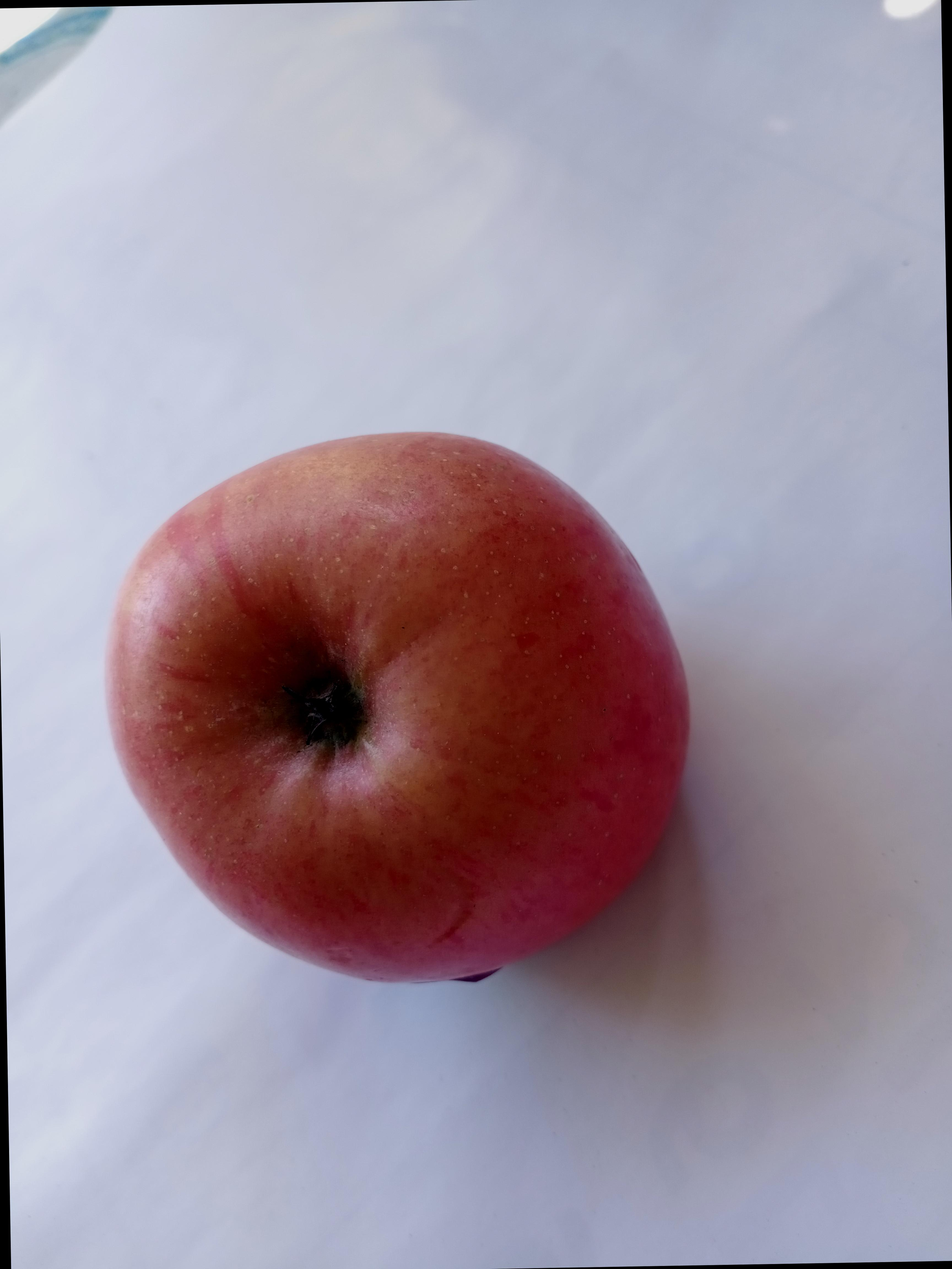Apple Ripe: (48, 420, 712, 1037)
